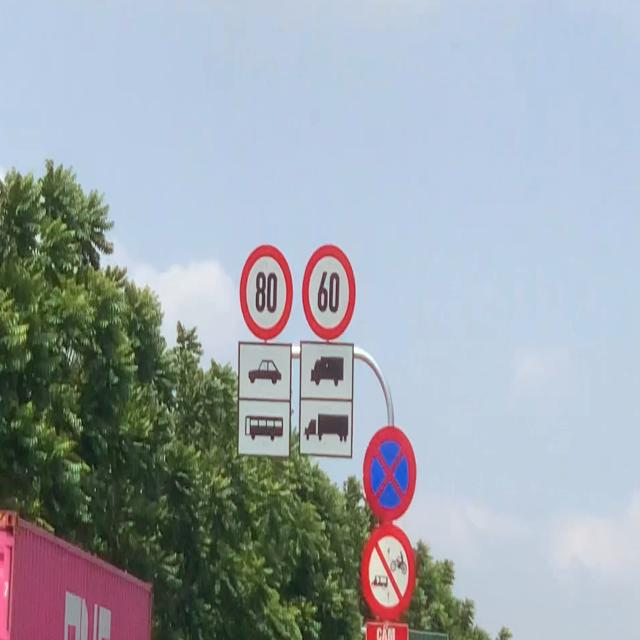Cam con lai: (361, 525, 416, 623)
Cam dung va do: (361, 422, 418, 522)
Toc do toi da: (300, 242, 357, 343), (238, 241, 295, 341)
